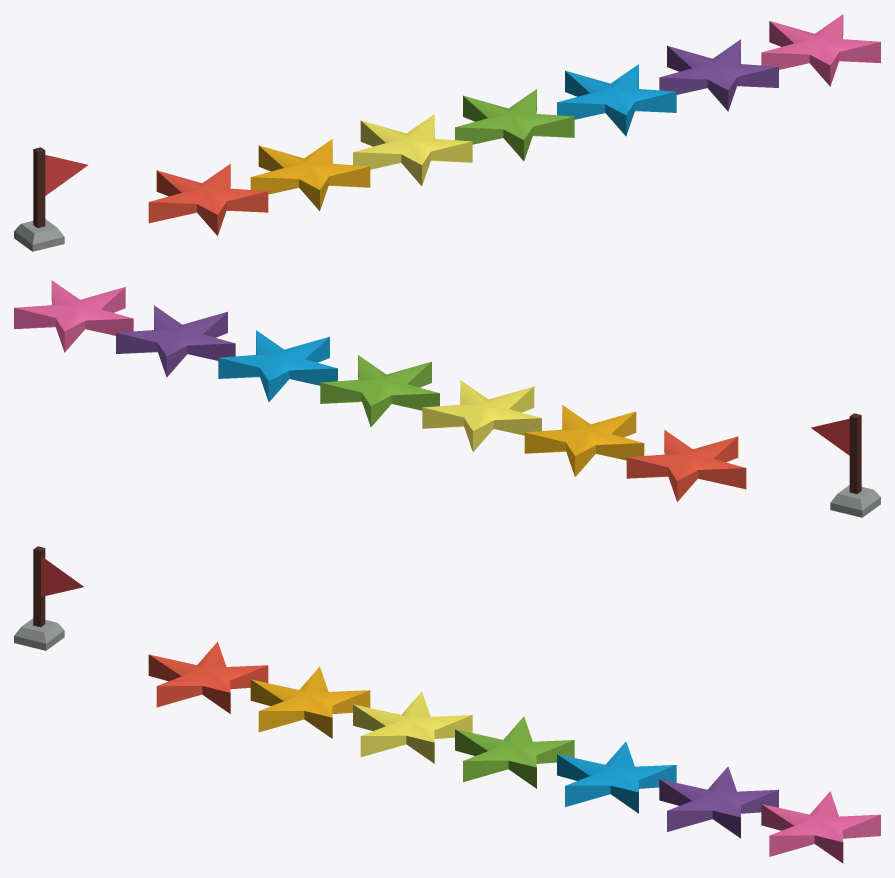
The model's file is Flag & Stars.fbx.
3 views of the same model, one above another, from view 1: azimuth 30°, elevation 25°; view 2: azimuth 150°, elevation 25°; view 3: azimuth 330°, elevation 25° (orthographic).
Parts seen in each view (by area): view 1: pCylinder1, pCylinder2, pCylinder3, pCylinder7, pCylinder4, pCylinder6, pCylinder5, pCube1; view 2: pCylinder1, pCylinder2, pCylinder3, pCylinder7, pCylinder4, pCylinder6, pCylinder5, pCube1; view 3: pCylinder7, pCylinder1, pCylinder2, pCylinder3, pCylinder6, pCylinder5, pCylinder4, pCube1.
Boxes of the visible parts, <box> form: pCylinder1: <box>148,164,268,235</box>; pCylinder2: <box>250,139,370,210</box>; pCylinder3: <box>353,114,472,185</box>; pCylinder7: <box>761,14,880,86</box>; pCylinder4: <box>455,89,574,160</box>; pCylinder6: <box>659,39,778,111</box>; pCylinder5: <box>557,64,676,136</box>; pCube1: <box>14,147,87,251</box>; pCylinder1: <box>626,430,746,501</box>; pCylinder2: <box>524,405,644,476</box>; pCylinder3: <box>422,380,541,451</box>; pCylinder7: <box>14,280,133,352</box>; pCylinder4: <box>320,355,439,426</box>; pCylinder6: <box>116,305,235,377</box>; pCylinder5: <box>218,330,337,402</box>; pCube1: <box>811,413,880,517</box>; pCylinder7: <box>761,791,880,863</box>; pCylinder1: <box>148,641,268,713</box>; pCylinder2: <box>250,666,370,738</box>; pCylinder3: <box>353,691,472,763</box>; pCylinder6: <box>659,766,778,838</box>; pCylinder5: <box>557,741,676,813</box>; pCylinder4: <box>455,716,574,788</box>; pCube1: <box>14,546,83,650</box>.
Bounding box in the file's own units: 15.06 × 1.72 × 1.9.
